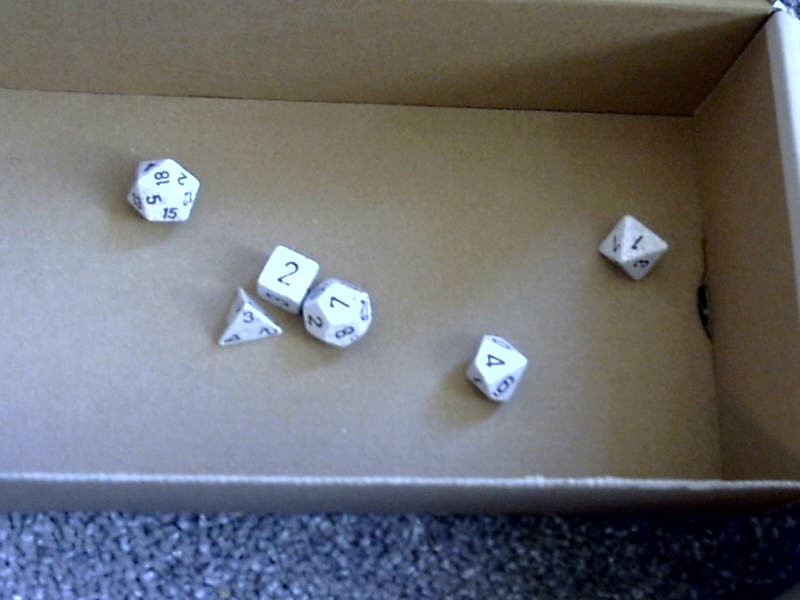d10 4: (460, 329, 535, 414)
d12 7: (302, 275, 383, 347)
d20 18: (121, 151, 206, 228)
d4 3: (207, 286, 285, 346)
d6 2: (252, 242, 317, 315)
d8 1: (592, 207, 671, 284)
